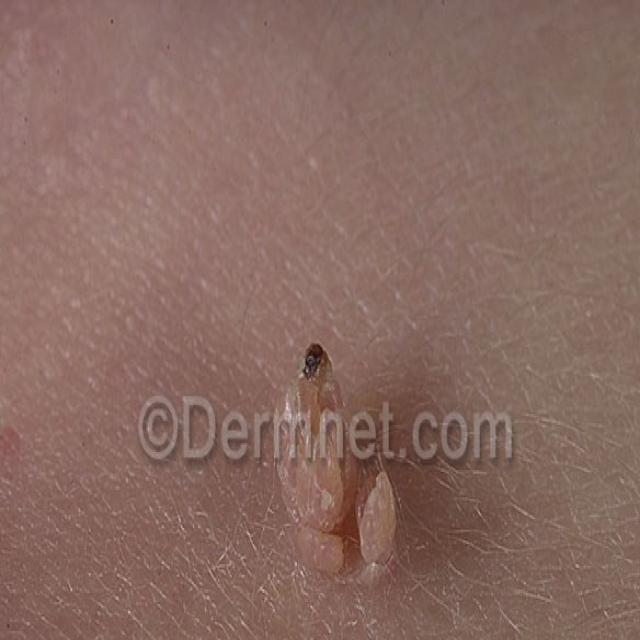Warts: (250, 319, 441, 620)
